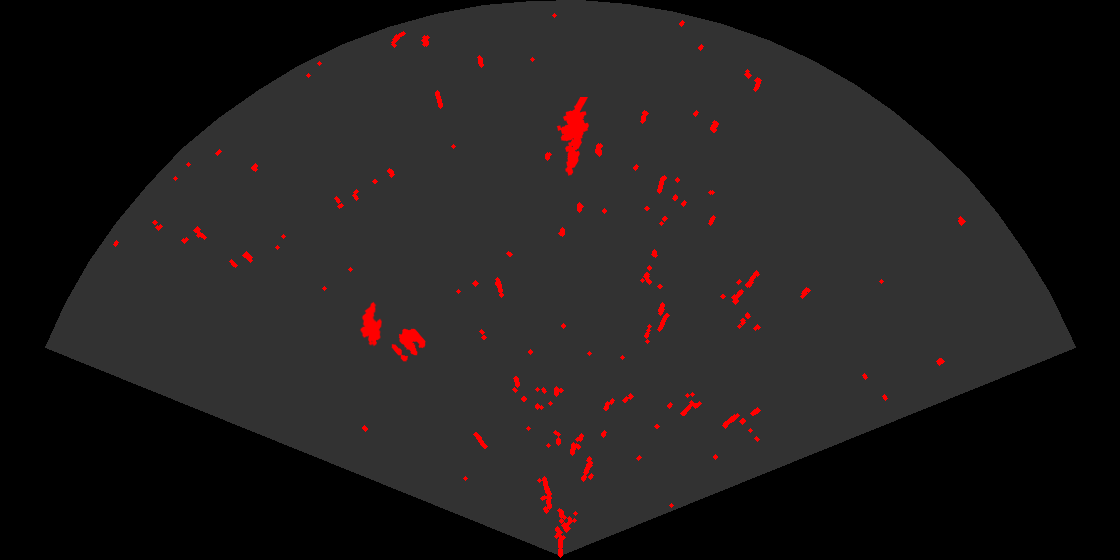AUV: (358, 300, 384, 348)
ball: (390, 327, 427, 363)
frogman: (555, 97, 591, 177)
